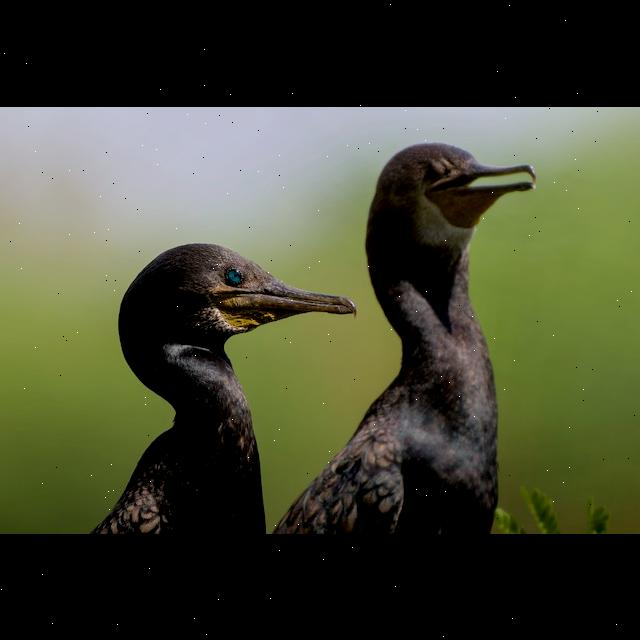cormorant: (272, 137, 544, 533), (64, 233, 358, 532)
